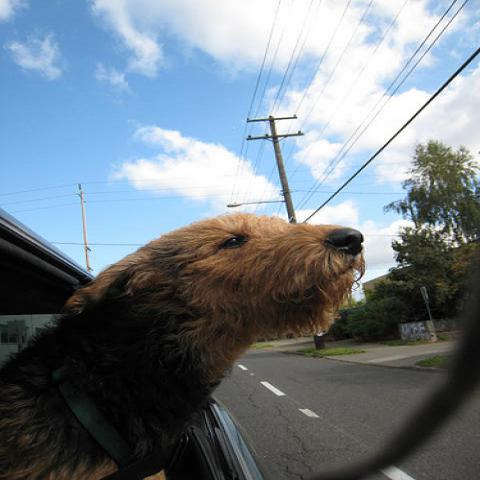car: (0, 209, 273, 475)
